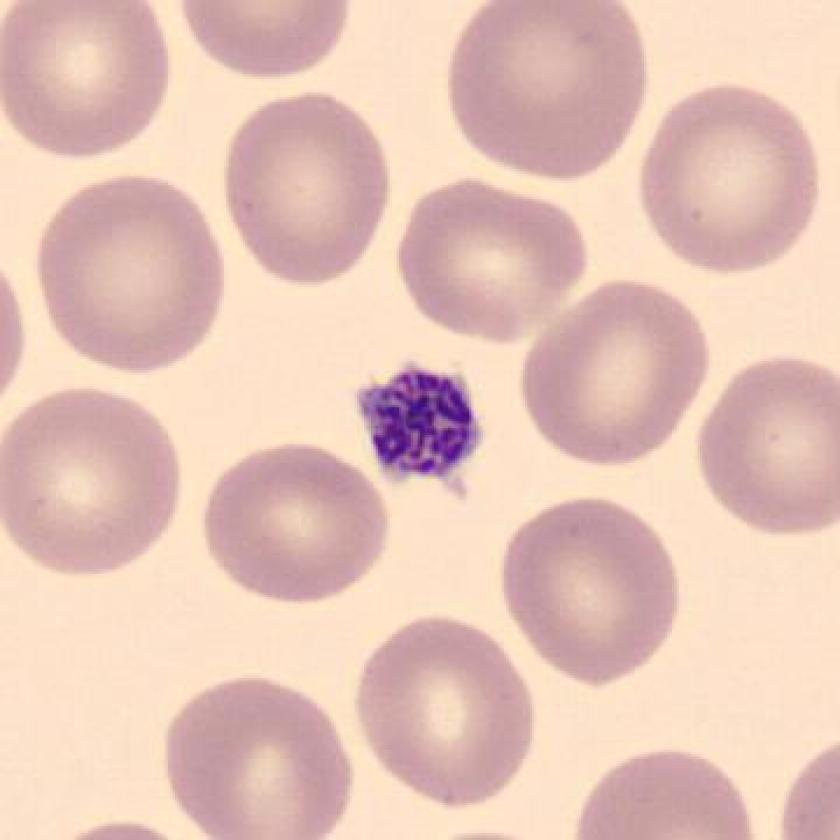platelets: (337, 355, 498, 492)
